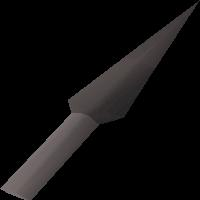knife: (3, 4, 197, 199)
